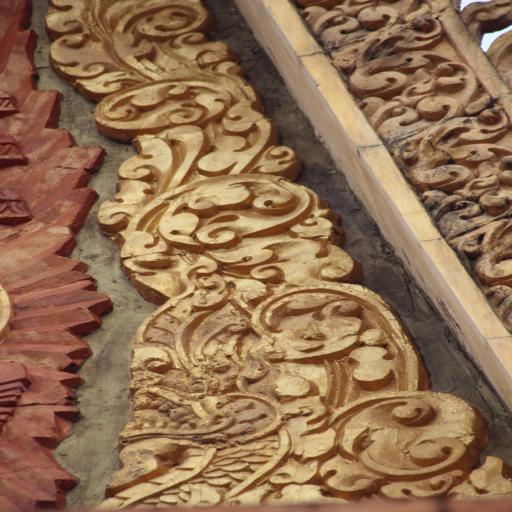la: (121, 244, 392, 362), (105, 121, 328, 251), (312, 363, 512, 506), (57, 0, 263, 126), (366, 78, 512, 182), (310, 0, 450, 84), (421, 180, 512, 294)
ran: (130, 364, 308, 512)
